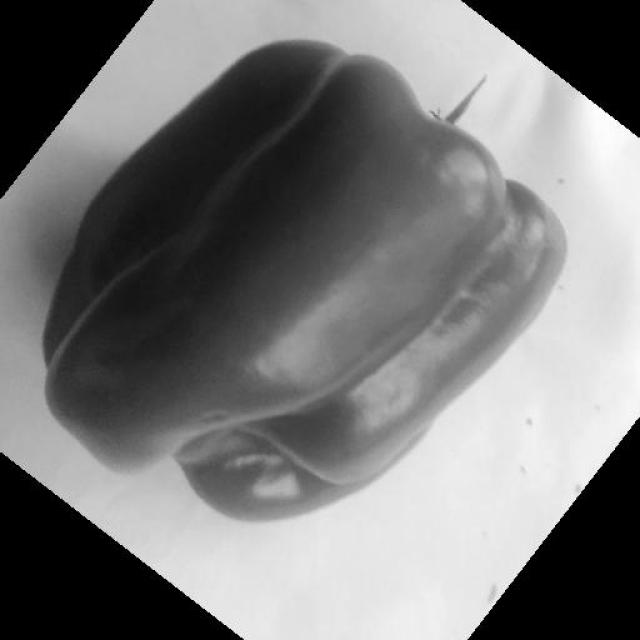Fresh_Capsicum: (39, 48, 573, 507)
